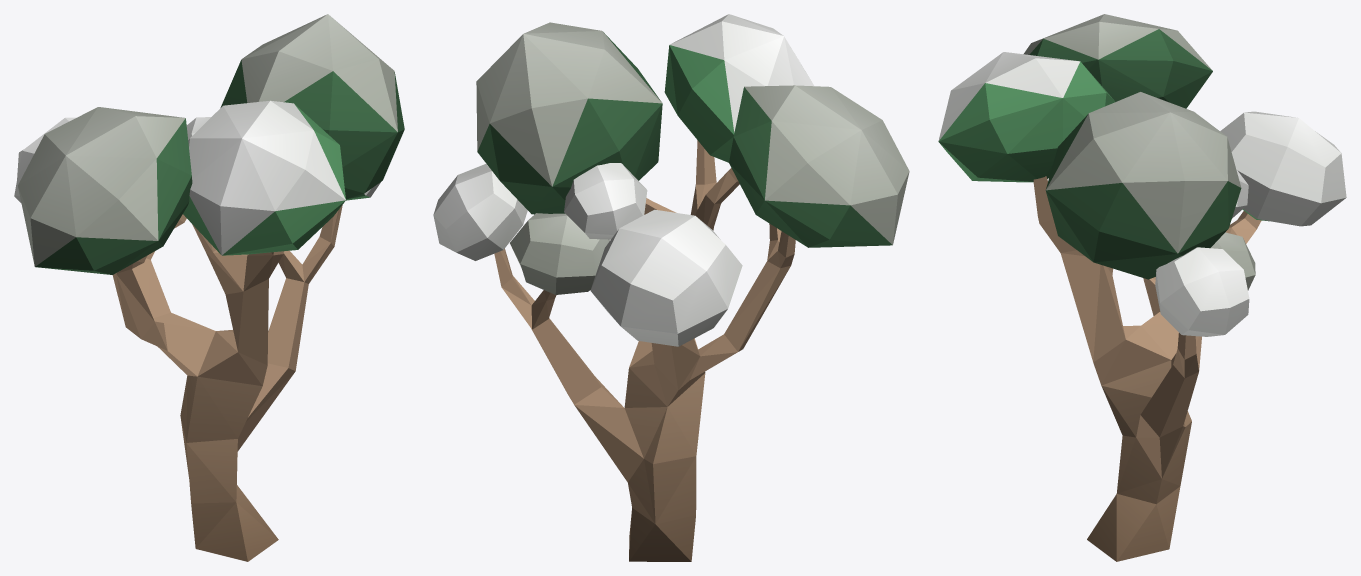
File: SnowTree3.fbx
The picture shows the model from 3 angles, left to right: view 1: azimuth 30°, elevation 25°; view 2: azimuth 150°, elevation 25°; view 3: azimuth 270°, elevation 25°; orthographic projection. The views are drawn at different scales.
Parts seen in each view (by area): view 1: SnowTree3; view 2: SnowTree3; view 3: SnowTree3.
Boxes of the visible parts, box(x1,y1,x2,y2) form: SnowTree3: box(14, 14, 404, 561); SnowTree3: box(433, 14, 909, 561); SnowTree3: box(938, 14, 1346, 561).
Size of the model in its own units: 384 by 450 by 342.
